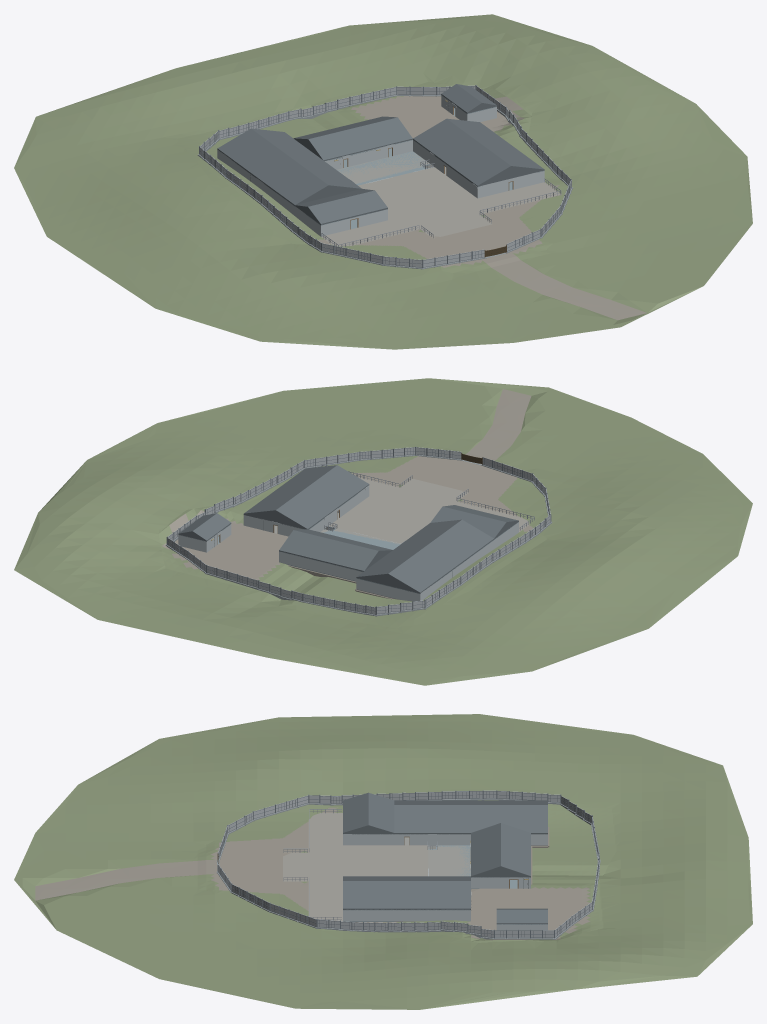
The model's file is station-with-complete-power.glb.
The picture shows the model from 3 angles, top to bottom: view 1: azimuth 30°, elevation 25°; view 2: azimuth 150°, elevation 25°; view 3: azimuth 270°, elevation 25°; orthographic projection. The views are drawn at different scales.
Parts seen in each view (by area): view 1: Northwatch joined valley and service lane, Saved editor geographic earthworks WLD-08.001, WLD-08 compound service forecourt structural surface region0, WLD-08 raised courtyard terrace structural surface region0, dormitory-and-mess roof west, radio-records roof south, laboratory roof west, generator-building roof west, Northwatch braced post line, stores roof south, dormitory-and-mess roof east, WLD-08 main tunnel roof with rectangular wells region0 (+5 smaller); view 2: Northwatch joined valley and service lane, Saved editor geographic earthworks WLD-08.001, WLD-08 raised courtyard terrace structural surface region0, dormitory-and-mess roof west, radio-records roof north, WLD-08 compound service forecourt structural surface region0, generator-building roof west, laboratory roof west, Northwatch braced post line, dormitory-and-mess roof east, stores roof north, generator-building roof east (+4 smaller); view 3: Northwatch joined valley and service lane, Saved editor geographic earthworks WLD-08.001, dormitory-and-mess roof east, WLD-08 compound service forecourt structural surface region0, WLD-08 raised courtyard terrace structural surface region0, laboratory roof east, generator-building roof east, radio-records roof north, radio-records roof south, Northwatch braced post line, WLD-08 main tunnel roof with rectangular wells region0, stores roof north (+8 smaller).
Part boxes in pixels (x1,y1,x2,y2): Northwatch joined valley and service lane: [14, 14, 752, 349]; Saved editor geographic earthworks WLD-08.001: [178, 82, 563, 276]; WLD-08 compound service forecourt structural surface region0: [321, 182, 561, 246]; WLD-08 raised courtyard terrace structural surface region0: [358, 167, 477, 220]; dormitory-and-mess roof west: [413, 119, 510, 186]; radio-records roof south: [308, 117, 412, 160]; laboratory roof west: [256, 157, 328, 205]; generator-building roof west: [217, 128, 289, 176]; Northwatch braced post line: [197, 85, 573, 269]; stores roof south: [308, 190, 387, 224]; dormitory-and-mess roof east: [447, 118, 544, 170]; WLD-08 main tunnel roof with rectangular wells region0: [338, 151, 429, 183]; Northwatch joined valley and service lane: [14, 378, 752, 685]; Saved editor geographic earthworks WLD-08.001: [159, 446, 546, 628]; WLD-08 raised courtyard terrace structural surface region0: [329, 496, 437, 543]; dormitory-and-mess roof west: [275, 465, 369, 529]; radio-records roof north: [279, 530, 378, 571]; WLD-08 compound service forecourt structural surface region0: [359, 477, 529, 531]; generator-building roof west: [388, 547, 457, 592]; laboratory roof west: [425, 519, 493, 565]; Northwatch braced post line: [165, 446, 552, 616]; dormitory-and-mess roof east: [244, 465, 336, 514]; stores roof north: [430, 506, 506, 538]; generator-building roof east: [356, 546, 424, 577]; Northwatch joined valley and service lane: [14, 714, 752, 1009]; Saved editor geographic earthworks WLD-08.001: [197, 800, 616, 942]; dormitory-and-mess roof east: [343, 881, 470, 909]; WLD-08 compound service forecourt structural surface region0: [308, 813, 342, 921]; WLD-08 raised courtyard terrace structural surface region0: [343, 845, 428, 876]; laboratory roof east: [394, 805, 470, 833]; generator-building roof east: [471, 805, 547, 833]; radio-records roof north: [501, 823, 530, 876]; radio-records roof south: [471, 823, 500, 876]; Northwatch braced post line: [219, 790, 600, 939]; WLD-08 main tunnel roof with rectangular wells region0: [428, 845, 470, 876]; stores roof north: [368, 793, 394, 833].
Bounding box in the file's own units: 166 × 9.04 × 173.
Materials: 88 (57 with a texture image).
